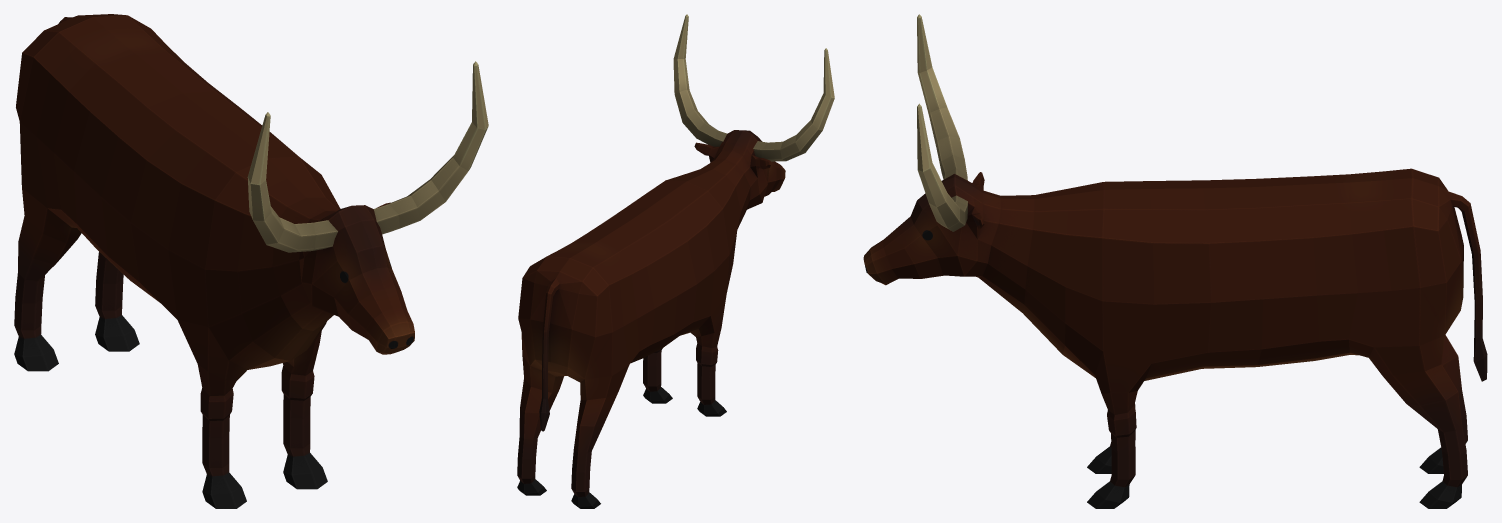
The model's file is cattlehorn.glb.
3 views of the same model, side by side, from view 1: azimuth 30°, elevation 25°; view 2: azimuth 150°, elevation 25°; view 3: azimuth 270°, elevation 25° (orthographic). The views are drawn at different scales.
Parts seen in each view (by area): view 1: node-0; view 2: node-0; view 3: node-0.
Part boxes in pixels (x1,y1,x2,y2): node-0: (14,14,488,508); node-0: (517,14,834,508); node-0: (863,14,1487,508).
Bounding box in the file's own units: 5.28 × 10.21 × 13.55.
1 material, 1 textured.
